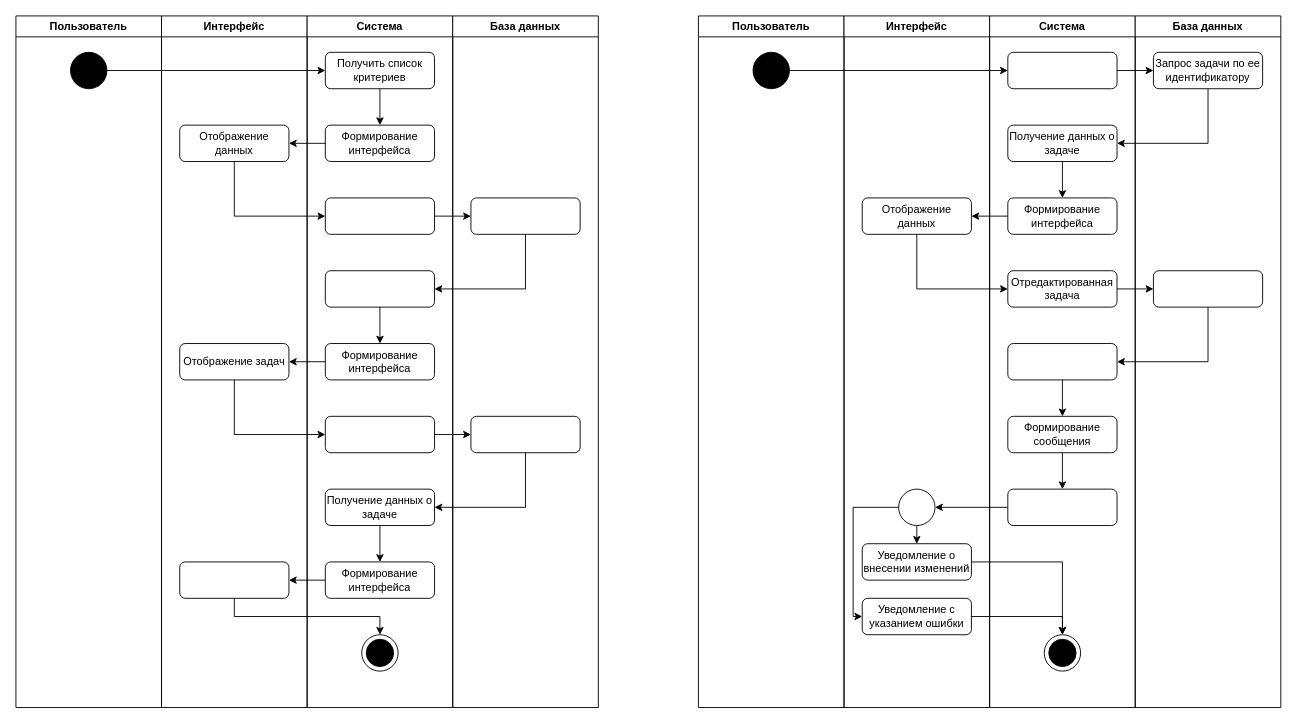
The diagram is 1297 pixels wide and 723 high, and some of its shapes have lost their labels. Each missing label, with the centre of its shape:
"XOR" goes at [916,507].
"Выбранные критерии" goes at [379,215].
"Запрос на изменение данных о задаче" goes at [1208,288].
"Запрос на получение задач по критериям" goes at [525,215].
"Запрос полной информации о задаче" goes at [525,434].
"Отображение задачи" goes at [234,579].
"Отправка сообщения" goes at [1062,507].
"Получение ответа" goes at [1062,361].
"Получить задачу на просмотр" goes at [379,434].
"Получить задачу на редактирование" goes at [1062,70].
"Список задач" goes at [379,288].
